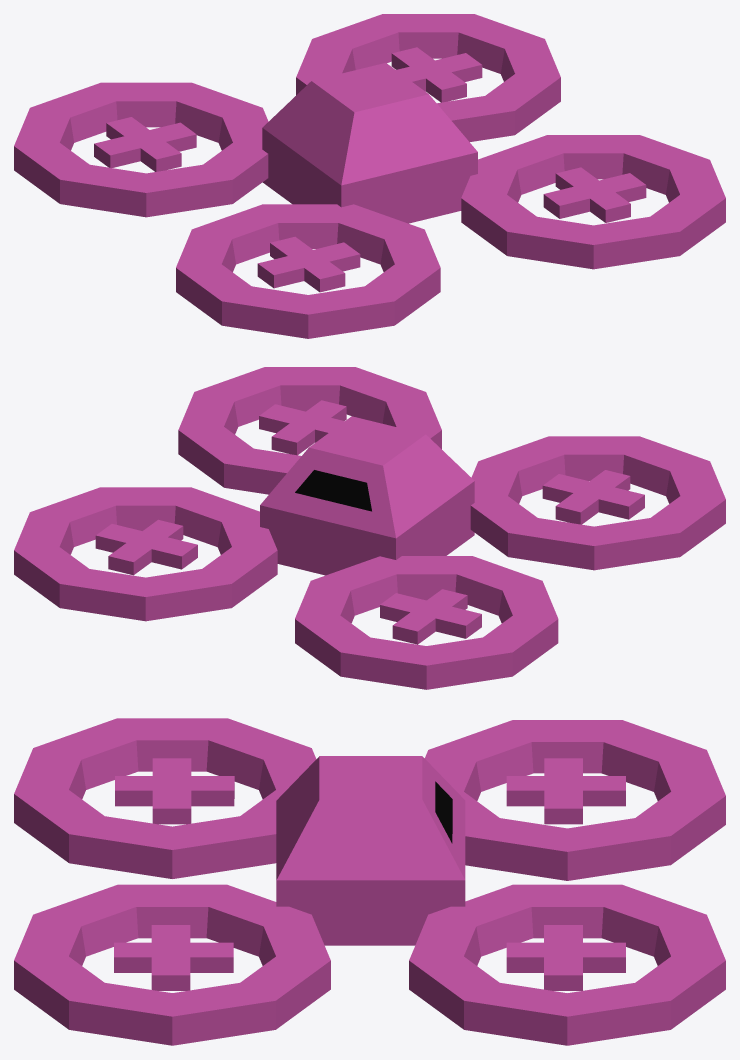
File: drone.obj
3 views of the same model, one above another, from view 1: azimuth 30°, elevation 25°; view 2: azimuth 150°, elevation 25°; view 3: azimuth 270°, elevation 25° (orthographic). The views are drawn at different scales.
Parts seen in each view (by area): view 1: Cube_Cube.001, Cylinder.002_Cylinder.006, Cylinder.001_Cylinder.005, Cylinder.004_Cylinder.007, Cylinder.003_Cylinder.004, PropellerRB.001_Cube.004, PropellerRB_Cube, PropellerLT_Cube.003, ProperllerRT_Cube.002; view 2: Cube_Cube.001, Cylinder.004_Cylinder.007, Cylinder.003_Cylinder.004, Cylinder.002_Cylinder.006, Cylinder.001_Cylinder.005, ProperllerRT_Cube.002, PropellerRB.001_Cube.004, PropellerLT_Cube.003, PropellerRB_Cube; view 3: Cylinder.001_Cylinder.005, Cylinder.003_Cylinder.004, Cube_Cube.001, Cylinder.002_Cylinder.006, Cylinder.004_Cylinder.007, PropellerRB.001_Cube.004, PropellerLT_Cube.003, PropellerRB_Cube, ProperllerRT_Cube.002.
Part boxes in pixels (x1,y1,x2,y2): Cube_Cube.001: (262,63,477,223); Cylinder.002_Cylinder.006: (176,204,440,338); Cylinder.001_Cylinder.005: (461,135,725,269); Cylinder.004_Cylinder.007: (14,82,268,217); Cylinder.003_Cylinder.004: (296,14,560,141); PropellerRB.001_Cube.004: (257,236,360,292); PropellerRB_Cube: (543,167,646,222); PropellerLT_Cube.003: (94,117,196,171); ProperllerRT_Cube.002: (391,47,482,102); Cube_Cube.001: (260,416,474,575); Cylinder.004_Cylinder.007: (295,556,558,689); Cylinder.003_Cylinder.004: (14,487,277,621); Cylinder.002_Cylinder.006: (470,436,725,570); Cylinder.001_Cylinder.005: (178,367,441,494); ProperllerRT_Cube.002: (95,519,197,575); PropellerRB.001_Cube.004: (542,470,644,524); PropellerLT_Cube.003: (380,589,481,644); PropellerRB_Cube: (259,400,346,455); Cylinder.001_Cylinder.005: (14,884,330,1045); Cylinder.003_Cylinder.004: (409,884,725,1045); Cube_Cube.001: (276,756,465,945); Cylinder.002_Cylinder.006: (14,718,316,878); Cylinder.004_Cylinder.007: (424,720,725,880); PropellerRB.001_Cube.004: (115,758,234,824); PropellerLT_Cube.003: (506,758,625,824); PropellerRB_Cube: (114,925,233,990); ProperllerRT_Cube.002: (506,925,625,990).
Bounding box in the file's own units: 7.48 × 1.49 × 7.54.
